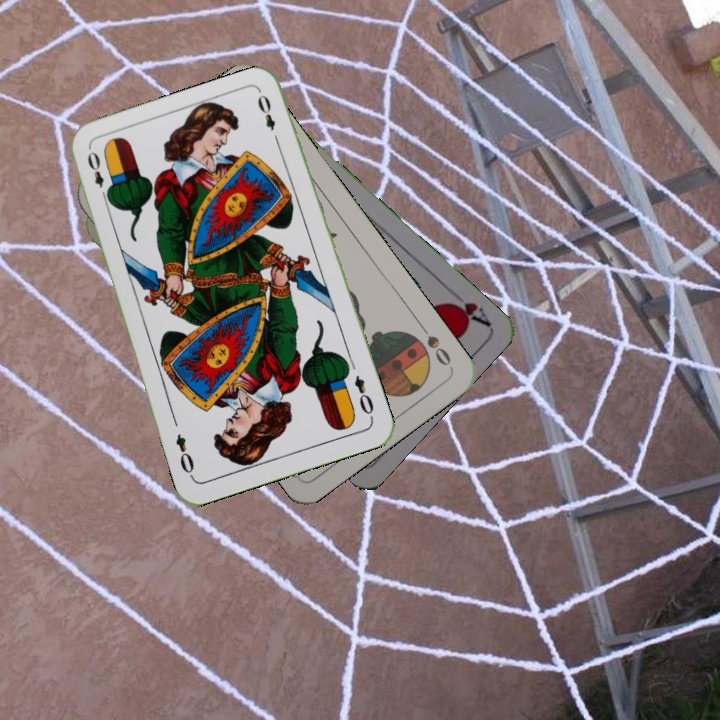EO: (83, 147, 113, 204), (350, 371, 377, 422)
HA: (442, 297, 492, 329)
SO: (415, 319, 455, 371)
